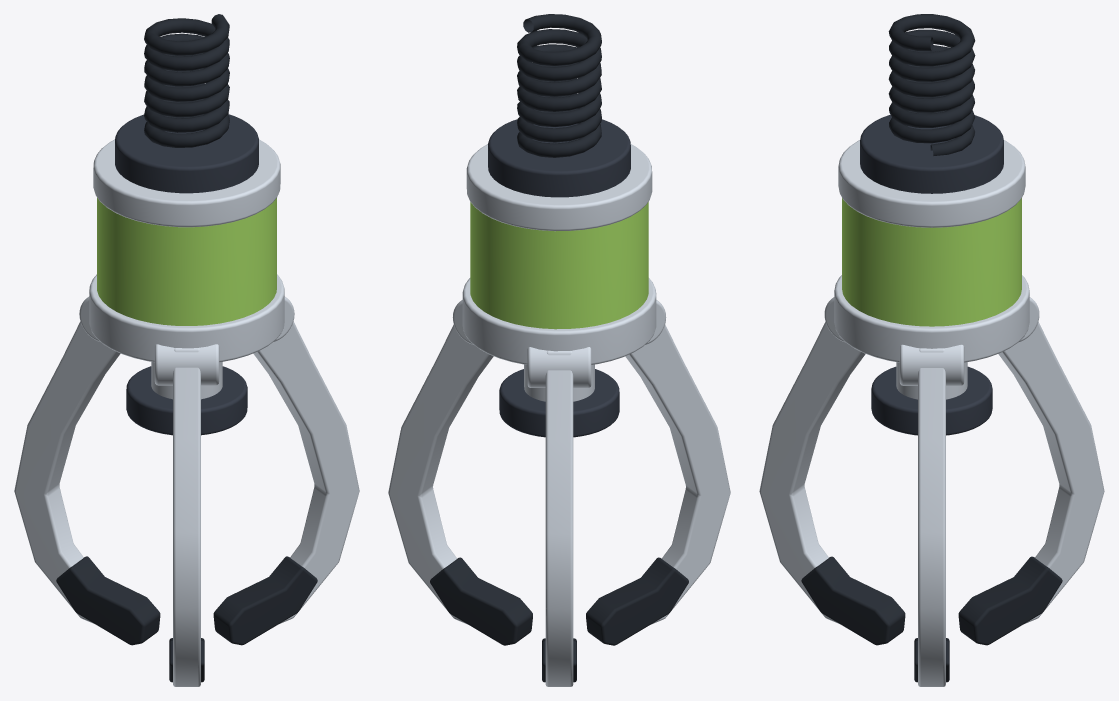
File: claw.glb
The picture shows the model from 3 angles, left to right: view 1: azimuth 30°, elevation 25°; view 2: azimuth 150°, elevation 25°; view 3: azimuth 270°, elevation 25°; orthographic projection.
Parts seen in each view (by area): view 1: Actuator barrel, Curved finger, Curved finger.001, Coiled strain relief, Curved finger.002, Barrel inset, Top cap, Mounting collar, Protective tip, Protective tip.001, Linkage hub, Pivot pin.002 (+1 smaller); view 2: Actuator barrel, Curved finger, Curved finger.002, Coiled strain relief, Curved finger.001, Barrel inset, Top cap, Mounting collar, Protective tip.002, Protective tip, Linkage hub, Pivot pin.001 (+1 smaller); view 3: Actuator barrel, Curved finger.001, Curved finger.002, Coiled strain relief, Curved finger, Barrel inset, Top cap, Mounting collar, Protective tip.001, Protective tip.002, Linkage hub, Pivot pin (+1 smaller).
Part boxes in pixels (<box>): Actuator barrel: <box>97,197,276,325</box>; Curved finger: <box>253,321,359,623</box>; Curved finger.001: <box>14,321,120,623</box>; Coiled strain relief: <box>144,14,229,147</box>; Curved finger.002: <box>173,348,200,686</box>; Barrel inset: <box>93,139,280,227</box>; Top cap: <box>115,114,258,193</box>; Mounting collar: <box>89,274,284,362</box>; Protective tip: <box>213,556,317,645</box>; Protective tip.001: <box>56,556,160,645</box>; Linkage hub: <box>126,366,247,435</box>; Pivot pin.002: <box>154,344,219,385</box>; Actuator barrel: <box>470,202,648,329</box>; Curved finger: <box>388,324,493,624</box>; Curved finger.002: <box>625,324,730,624</box>; Coiled strain relief: <box>517,14,601,157</box>; Curved finger.001: <box>545,350,573,686</box>; Barrel inset: <box>466,144,652,231</box>; Top cap: <box>488,119,630,197</box>; Mounting collar: <box>462,278,656,364</box>; Protective tip.002: <box>586,557,688,645</box>; Protective tip: <box>430,557,532,645</box>; Linkage hub: <box>499,369,619,437</box>; Pivot pin.001: <box>527,347,591,387</box>; Actuator barrel: <box>842,198,1021,326</box>; Curved finger.001: <box>998,322,1104,623</box>; Curved finger.002: <box>759,322,865,623</box>; Coiled strain relief: <box>888,14,975,155</box>; Curved finger: <box>918,348,945,686</box>; Barrel inset: <box>838,140,1025,227</box>; Top cap: <box>860,114,1003,193</box>; Mounting collar: <box>834,275,1029,362</box>; Protective tip.001: <box>958,556,1062,645</box>; Protective tip.002: <box>801,556,905,645</box>; Linkage hub: <box>871,366,992,435</box>; Pivot pin: <box>899,344,964,385</box>.
Size of the model in its own units: 0.7816 by 1.81 by 0.9001.
